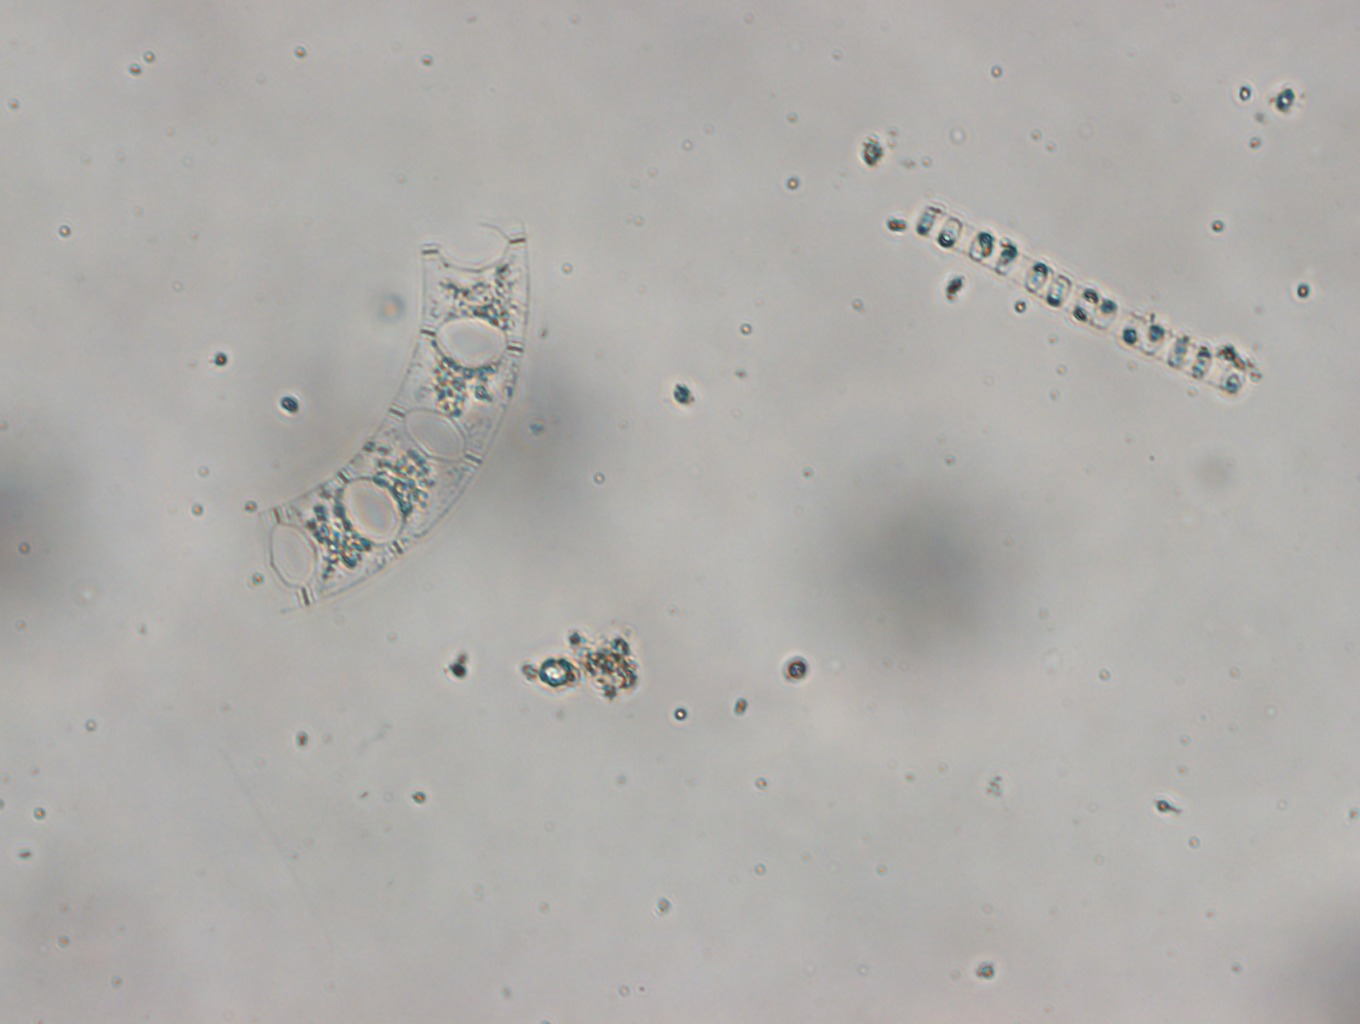eucampia: (246, 213, 535, 618)
skeletonema: (913, 200, 1255, 403)
